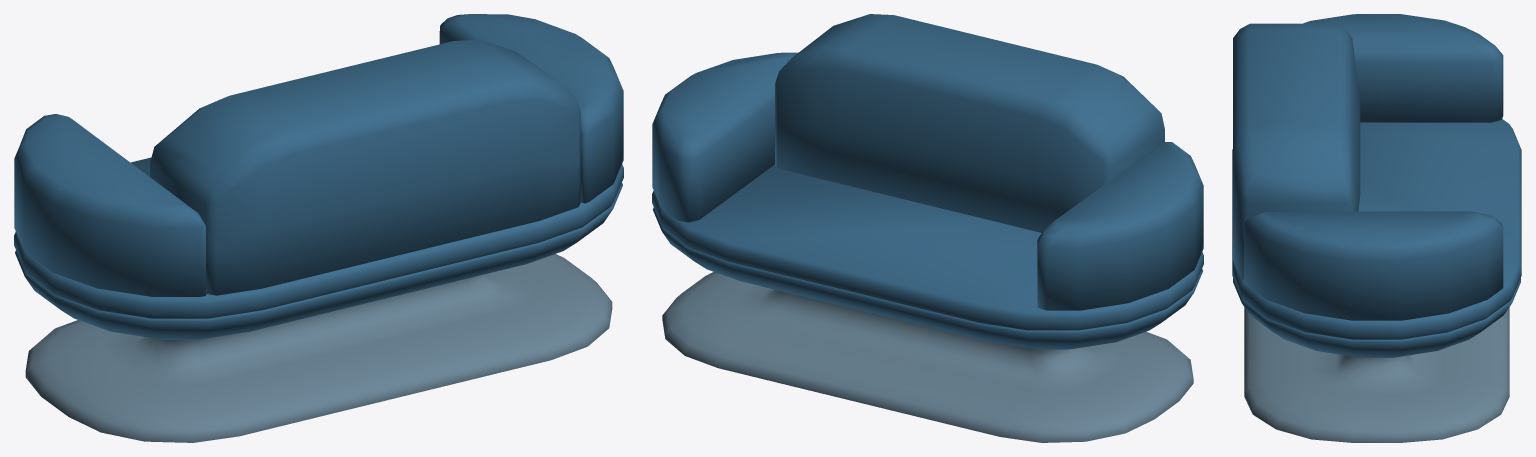
The model's file is Couch_Blue.fbx.
3 renders of one model, left to right at view 1: azimuth 30°, elevation 25°; view 2: azimuth 150°, elevation 25°; view 3: azimuth 270°, elevation 25°, orthographic. The views are drawn at different scales.
Parts seen in each view (by area): view 1: Couch; view 2: Couch; view 3: Couch.
Part boxes in pixels (<box>): Couch: <box>14,14,623,442</box>; Couch: <box>652,14,1203,442</box>; Couch: <box>1232,14,1521,442</box>.
Bounding box in the file's own units: 160 × 79.34 × 82.11.
